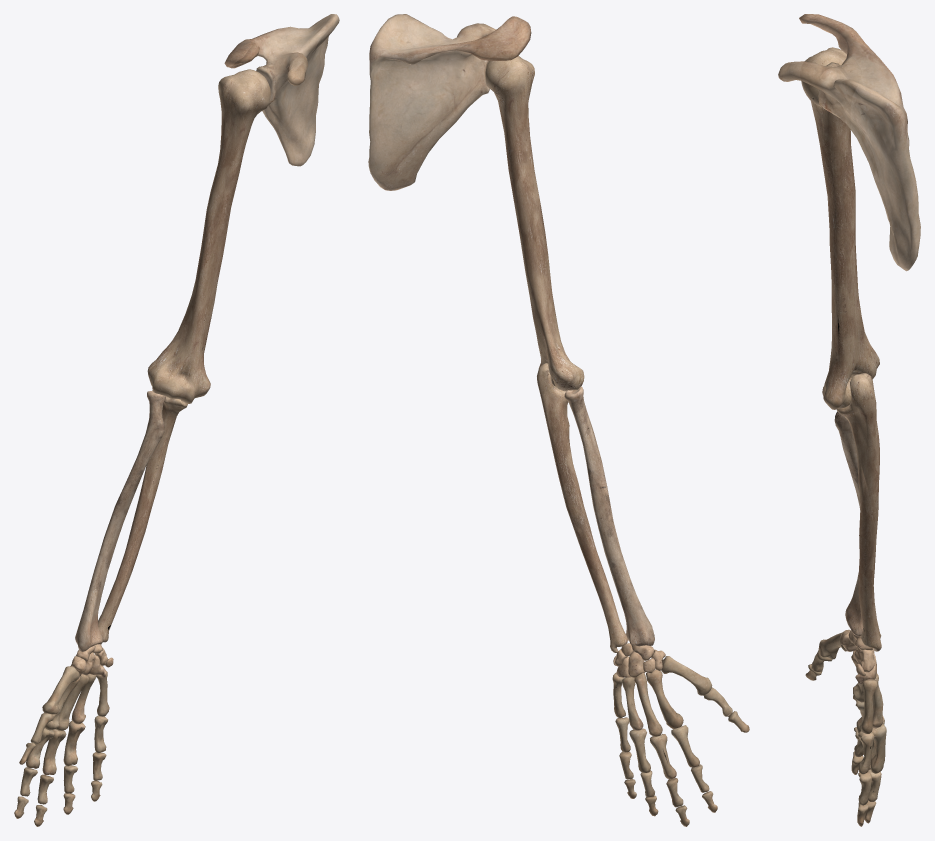
Rendered from Legs.005.obj.
3 views of the same model, side by side, from view 1: azimuth 30°, elevation 25°; view 2: azimuth 150°, elevation 25°; view 3: azimuth 270°, elevation 25° (orthographic). The views are drawn at different scales.
Visible parts, largest first — view 1: Legs.005_Arms.104_Arms.001, Legs.005_Arms.104_Chest.001, Legs.005_Arms.104_Hands.001; view 2: Legs.005_Arms.104_Arms.001, Legs.005_Arms.104_Chest.001, Legs.005_Arms.104_Hands.001; view 3: Legs.005_Arms.104_Arms.001, Legs.005_Arms.104_Chest.001, Legs.005_Arms.104_Hands.001.
Boxes of the visible parts, bbox=[...] form: Legs.005_Arms.104_Arms.001: bbox=[75, 69, 270, 651]; Legs.005_Arms.104_Chest.001: bbox=[224, 14, 339, 166]; Legs.005_Arms.104_Hands.001: bbox=[14, 644, 113, 826]; Legs.005_Arms.104_Arms.001: bbox=[485, 55, 654, 652]; Legs.005_Arms.104_Chest.001: bbox=[368, 14, 531, 190]; Legs.005_Arms.104_Hands.001: bbox=[612, 643, 749, 826]; Legs.005_Arms.104_Arms.001: bbox=[801, 47, 881, 651]; Legs.005_Arms.104_Chest.001: bbox=[778, 14, 920, 271]; Legs.005_Arms.104_Hands.001: bbox=[805, 629, 886, 826].
Size of the model in its own units: 1.85 by 3.84 by 0.5464.
